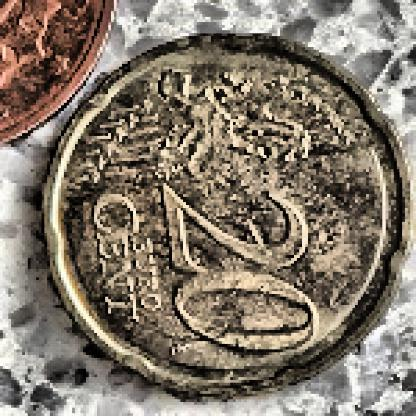coin: (40, 31, 411, 393)
